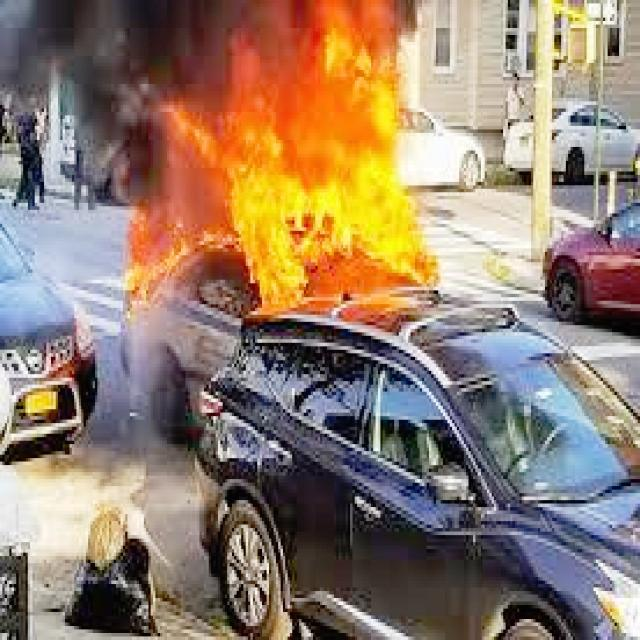api: (119, 36, 451, 361)
